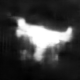plane: (9, 14, 76, 64)
